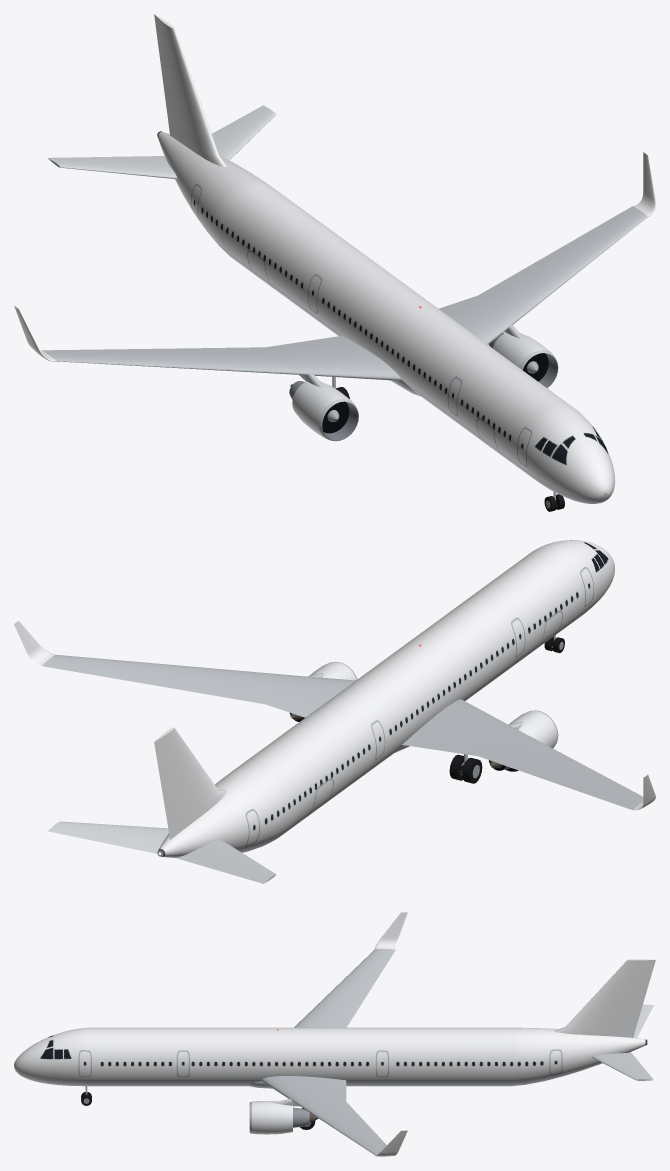
3 views of the same model, one above another, from view 1: azimuth 30°, elevation 25°; view 2: azimuth 150°, elevation 25°; view 3: azimuth 270°, elevation 25° (orthographic). The views are drawn at different scales.
Parts seen in each view (by area): view 1: body; view 2: body, gear; view 3: body.
Boxes of the visible parts, bbox=[...] form: body: bbox=[14, 14, 655, 503]; body: bbox=[14, 540, 655, 883]; gear: bbox=[449, 635, 564, 783]; body: bbox=[14, 912, 655, 1156].
Size of the model in its own units: 36.34 by 11.16 by 45.13.
Materials: 19 (1 with a texture image).
